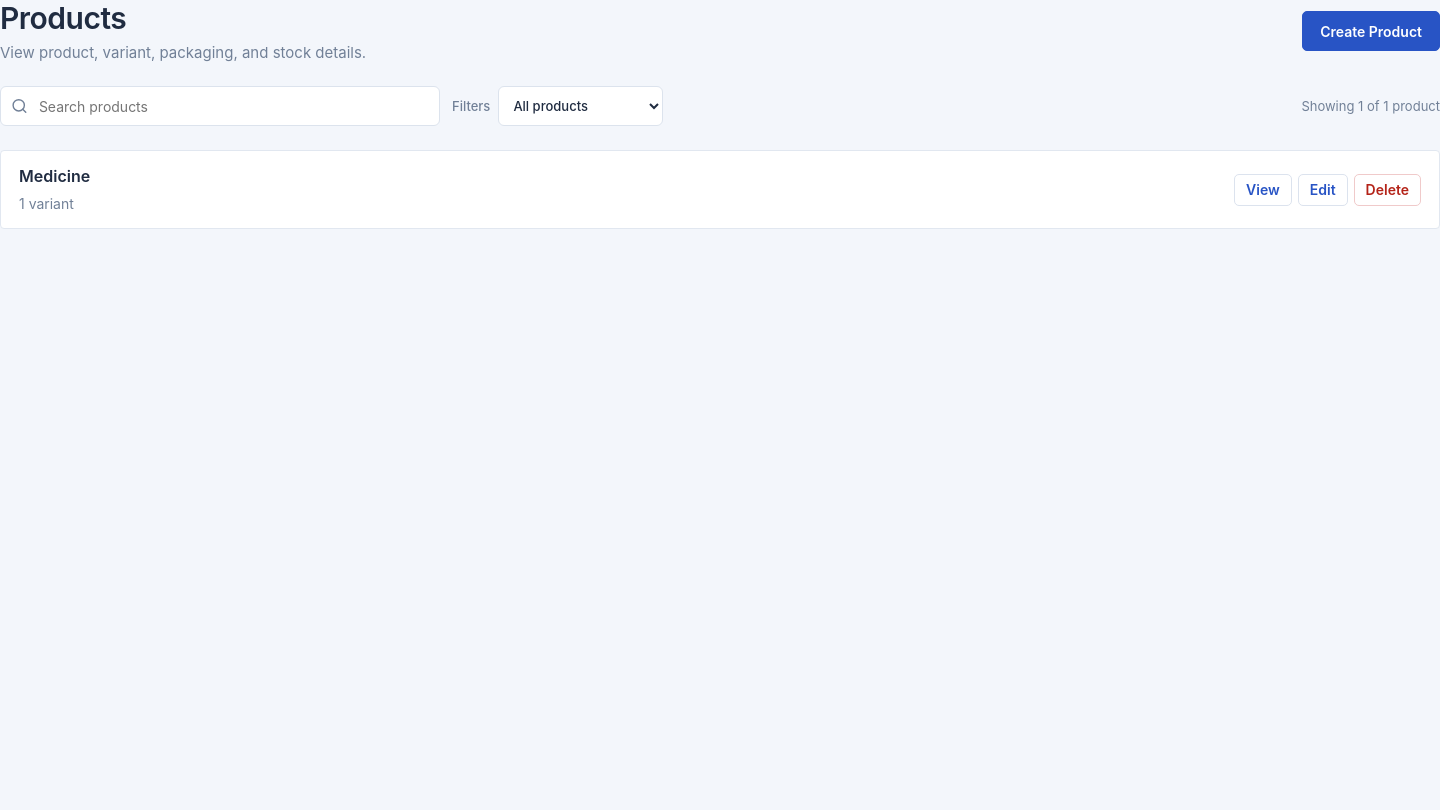
ProductsPage deletion › rejects a product deletion reason containing only
This screenshot has width=1440, height=810.
Click the button with aria-label "Delete Medicine" at (1387, 190), box [1354, 174, 1421, 206]
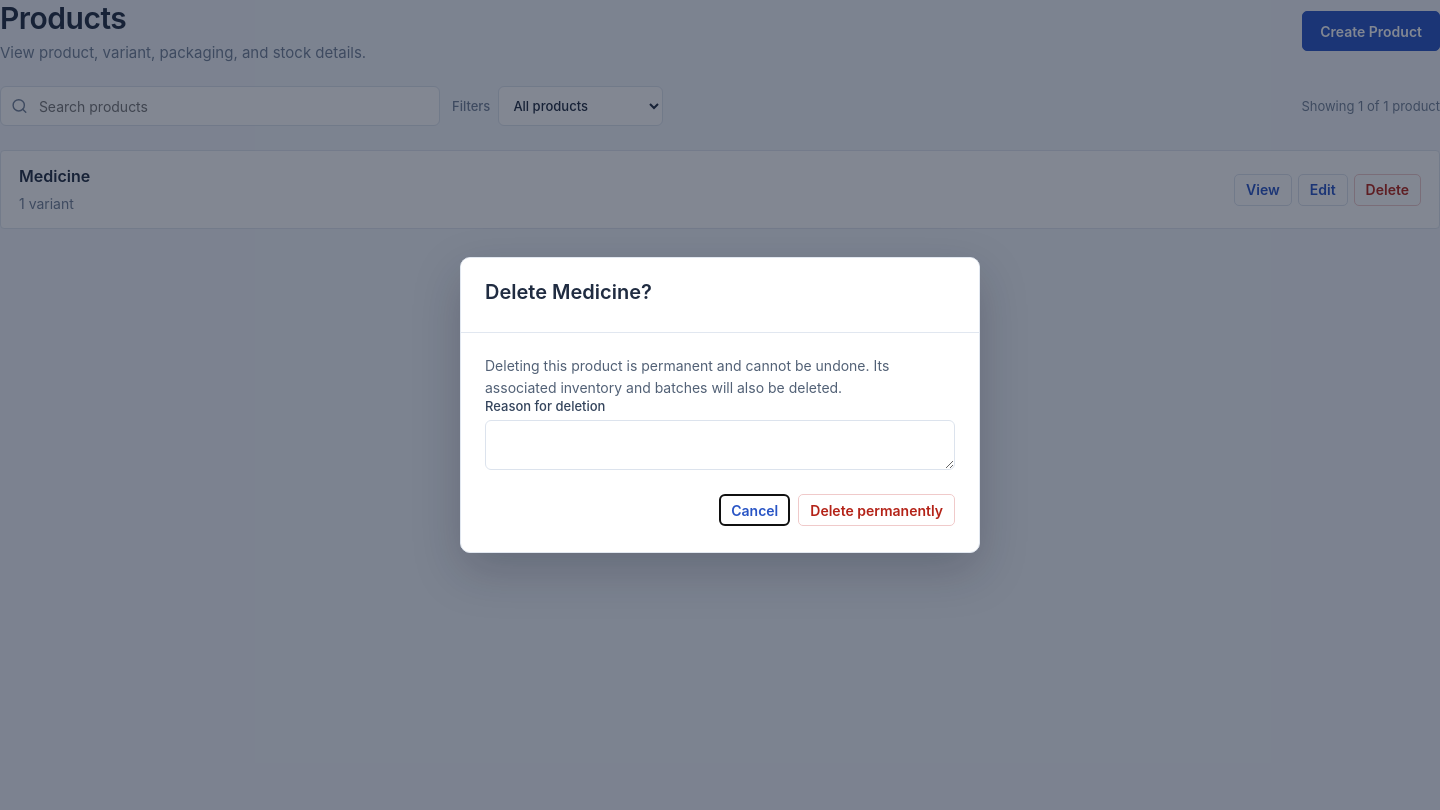
Click the button "Delete permanently" at (877, 510), box [798, 494, 955, 526]
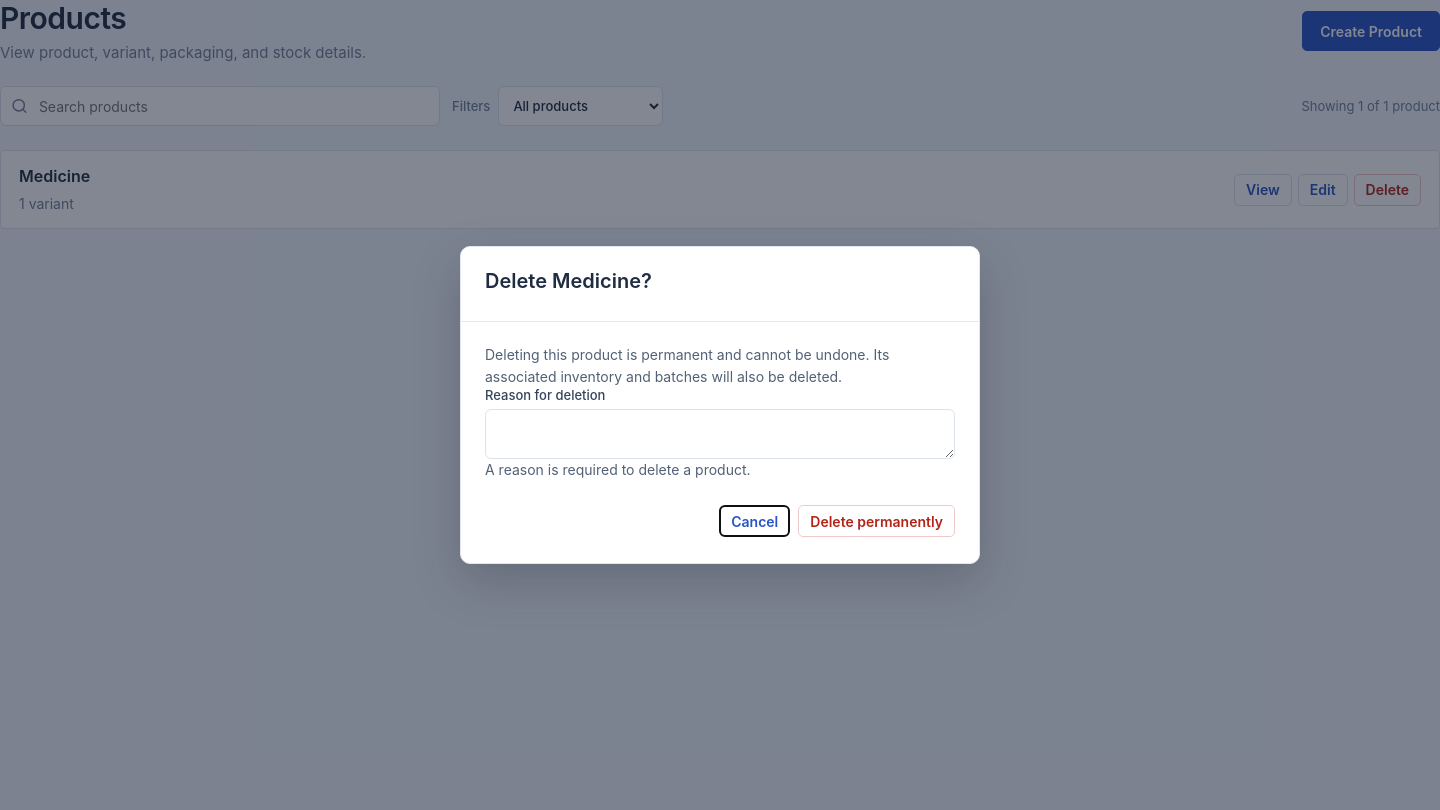
expect the dialog is shown: met, box [460, 246, 980, 564]
expect the message reads "A reason is required to delete a product.": met, box [485, 461, 750, 478]
